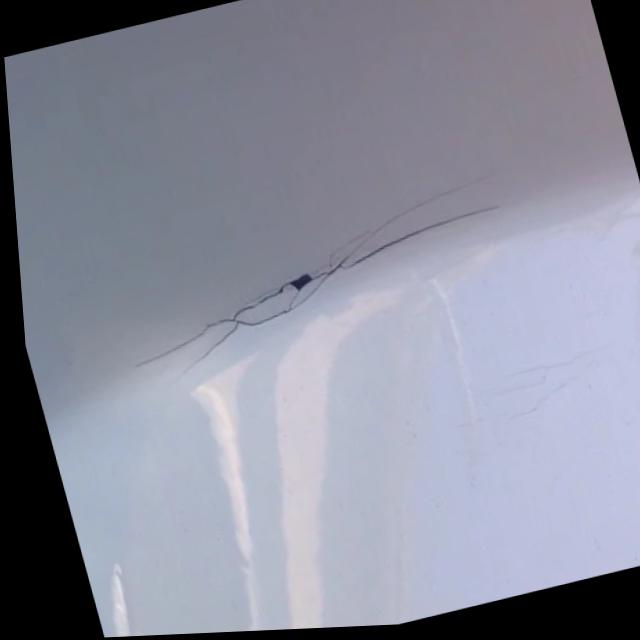Paint-Crack: (127, 173, 505, 386)
